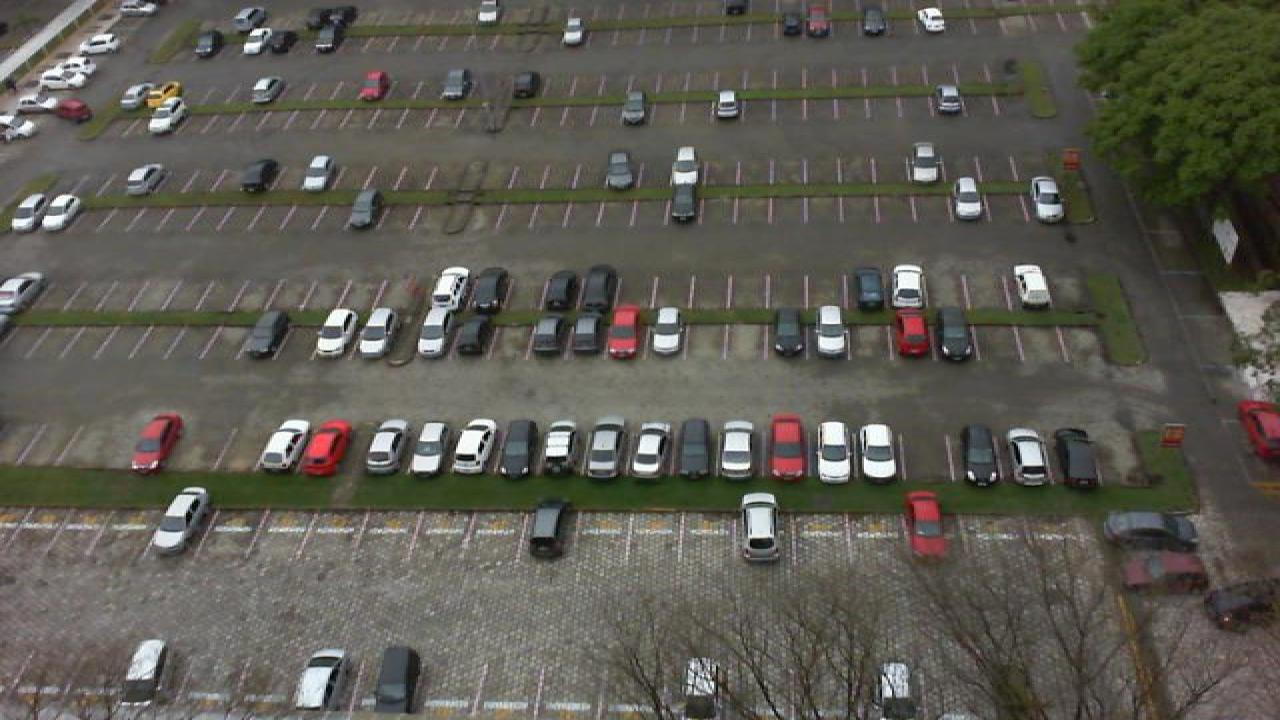Car: (148, 485, 212, 555), (290, 648, 346, 720), (1202, 578, 1276, 632), (1122, 544, 1206, 590), (900, 489, 950, 562), (1100, 507, 1198, 544), (370, 644, 418, 716), (736, 491, 782, 564), (1050, 426, 1102, 489), (520, 496, 572, 559), (130, 413, 184, 472), (120, 638, 168, 704), (254, 418, 312, 472), (764, 413, 810, 481), (676, 656, 724, 720), (296, 420, 350, 476), (956, 423, 1004, 486), (1004, 426, 1052, 488), (856, 420, 902, 484), (874, 659, 922, 720), (1236, 398, 1280, 463), (450, 417, 498, 475), (362, 419, 412, 474), (240, 308, 290, 361), (308, 307, 358, 360), (672, 417, 714, 480), (812, 419, 854, 482), (582, 420, 628, 477), (626, 420, 670, 479), (498, 419, 540, 480), (0, 271, 48, 324), (408, 419, 454, 474), (354, 306, 400, 361), (542, 419, 584, 478), (716, 419, 756, 480), (604, 304, 646, 361), (894, 305, 936, 361), (646, 305, 688, 360), (938, 306, 978, 363), (812, 304, 852, 359), (414, 307, 456, 359), (564, 307, 606, 359), (770, 306, 810, 360), (1010, 264, 1056, 310), (576, 263, 618, 313), (1026, 174, 1068, 224), (528, 307, 568, 358), (890, 263, 930, 312), (470, 266, 512, 312), (542, 264, 580, 313), (6, 190, 50, 232), (904, 140, 946, 184), (428, 266, 468, 312), (950, 176, 990, 222), (454, 310, 492, 358), (850, 264, 888, 312), (662, 181, 704, 224), (38, 192, 82, 232), (344, 187, 384, 231), (122, 161, 166, 197), (668, 145, 706, 186), (238, 158, 280, 195), (298, 154, 336, 194), (602, 150, 640, 190), (302, 4, 356, 32), (144, 101, 186, 136), (352, 70, 392, 105), (616, 89, 652, 127), (436, 66, 474, 102), (246, 75, 286, 108), (708, 89, 746, 123), (46, 98, 94, 124), (142, 79, 182, 110), (932, 84, 968, 118), (506, 68, 542, 102), (8, 88, 54, 114), (804, 2, 836, 38), (112, 86, 150, 116), (190, 27, 224, 60), (856, 5, 890, 38), (912, 5, 950, 34), (312, 21, 344, 55), (556, 14, 588, 48), (228, 7, 266, 35), (78, 30, 124, 53), (236, 27, 272, 56), (778, 5, 808, 38), (0, 115, 38, 140), (34, 70, 78, 91), (270, 28, 302, 56), (52, 55, 92, 77), (100, 16, 144, 35), (474, 0, 502, 28)
